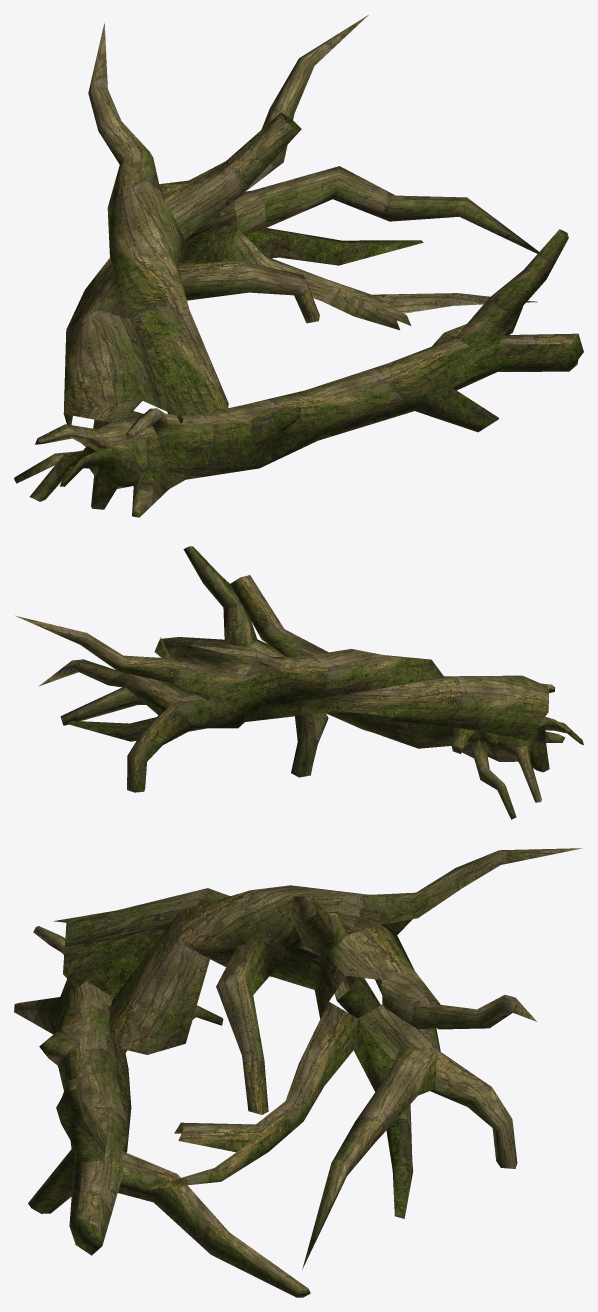
File: JJS_DL_DaoShu.FBX
3 renders of one model, top to bottom at view 1: azimuth 30°, elevation 25°; view 2: azimuth 150°, elevation 25°; view 3: azimuth 270°, elevation 25°, orthographic. The views are drawn at different scales.
Parts seen in each view (by area): view 1: JJS_DL_DaoShu01, JJS_DL_DaoShu02; view 2: JJS_DL_DaoShu01, JJS_DL_DaoShu02; view 3: JJS_DL_DaoShu01, JJS_DL_DaoShu02.
Part boxes in pixels (<box>): JJS_DL_DaoShu01: <box>63,15,538,446</box>; JJS_DL_DaoShu02: <box>14,229,583,517</box>; JJS_DL_DaoShu01: <box>15,575,549,792</box>; JJS_DL_DaoShu02: <box>60,546,583,819</box>; JJS_DL_DaoShu01: <box>53,848,581,1269</box>; JJS_DL_DaoShu02: <box>14,926,310,1297</box>.
Bounding box in the file's own units: 945 × 424 × 699.
